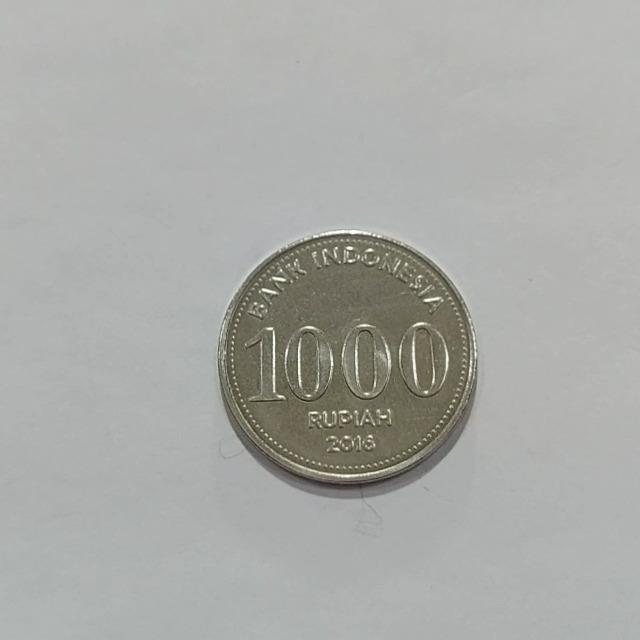Rp100: (214, 228, 479, 487)
